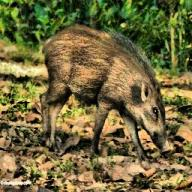boar: (38, 23, 174, 169)
